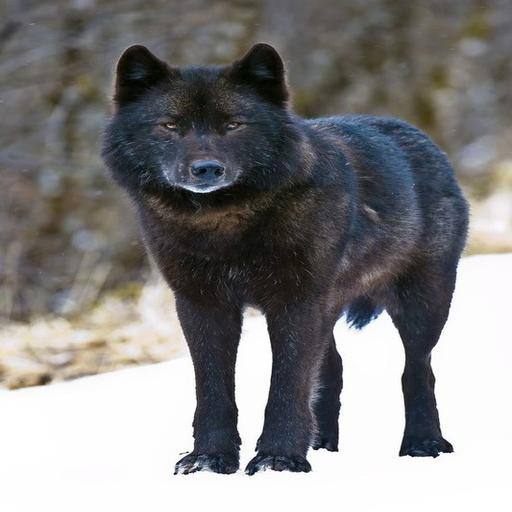Wolf: (106, 42, 473, 480)
